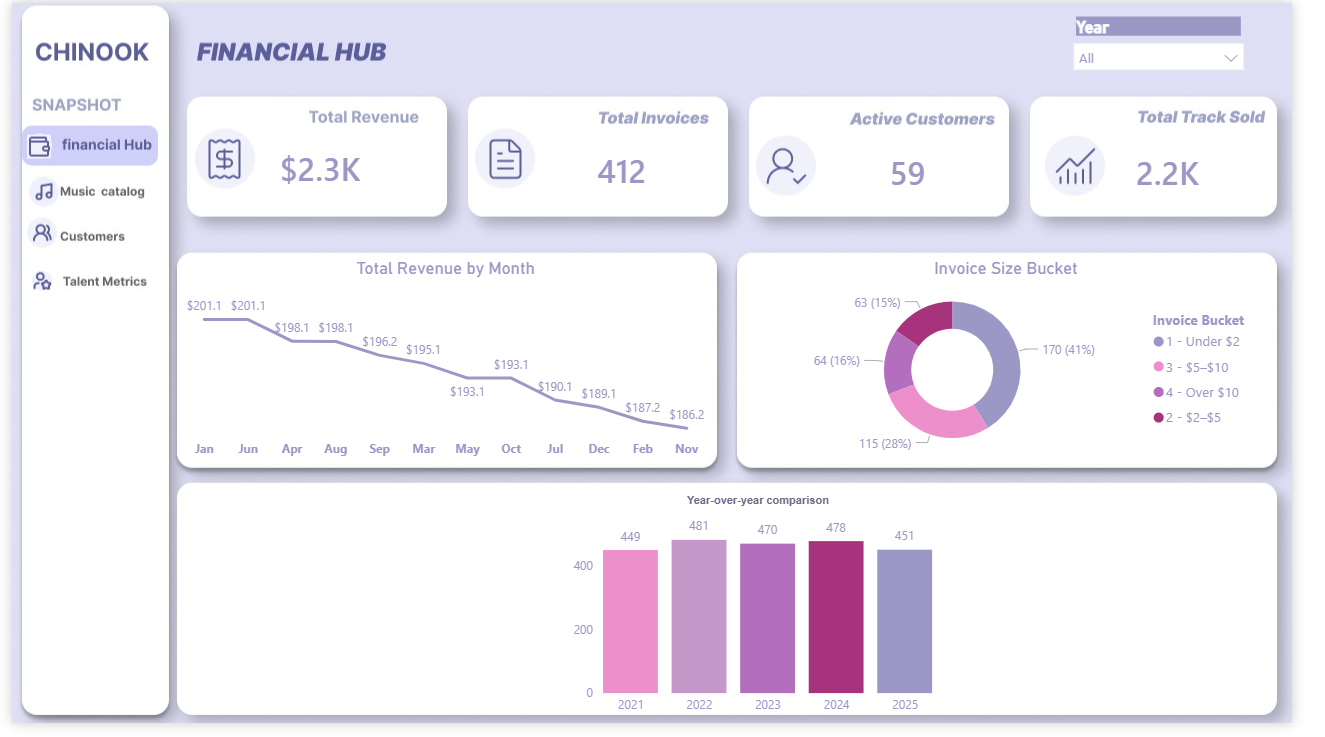

This screenshot's page, from the dashboard's own definition file:
{"tool":"powerbi","page":{"name":"Page 1","canvas":[1280,720],"ordinal":0},"visuals":[{"type":"cardVisual","fields":{"Data":["DAX.Total Customer"]},"box":[848.8,128.6,117.9,77.4],"z":0},{"type":"cardVisual","fields":{"Data":["DAX.Total Revenue"]},"box":[239.3,125,194,77.4],"z":1000},{"type":"cardVisual","fields":{"Data":["DAX.Total Invoices"]},"box":[556,131,114.3,69],"z":2000},{"type":"cardVisual","fields":{"Data":["DAX.Total Tracks Sold"]},"box":[1095.2,131,170.2,73.8],"z":3000},{"type":"columnChart","title":"Annual Revenue ","fields":{"Category":["invoice.Year"],"Y":["DAX.Annual Revenue"]},"box":[556,501.2,369,219],"z":5000},{"type":"textbox","box":[669.6,463.6,228.1,51.5],"z":6000},{"type":"donutChart","title":" Invoice Size Bucket","fields":{"Category":["invoice.Invoice Bucket"],"Y":["CountNonNull(invoice.InvoiceId)"]},"box":[734.5,254.8,517.9,204.8],"z":7000},{"type":"lineChart","title":"Total Revenue by Month ","fields":{"Y":["DAX.Total Revenue"],"Category":["invoice.Month Short"]},"box":[170.2,254.8,527.4,209.5],"z":11000},{"type":"slicer","fields":{"Values":["invoice.Year"]},"box":[1051.2,8.3,190.5,73.8],"z":12000}]}

Visuals, with their boxes in screenshot pixels (x1, y1, x2, y2), scaled from the page's 1280x720 canvas onto the 1325x737 screenshot:
cardVisual - DAX.Total Customer: x1=879 y1=132 x2=1001 y2=211
cardVisual - DAX.Total Revenue: x1=248 y1=128 x2=449 y2=207
cardVisual - DAX.Total Invoices: x1=576 y1=134 x2=694 y2=205
cardVisual - DAX.Total Tracks Sold: x1=1134 y1=134 x2=1310 y2=210
"Annual Revenue " columnChart: x1=576 y1=513 x2=958 y2=736
textbox: x1=693 y1=475 x2=929 y2=527
" Invoice Size Bucket" donutChart: x1=760 y1=261 x2=1296 y2=470
"Total Revenue by Month " lineChart: x1=176 y1=261 x2=722 y2=475
slicer - invoice.Year: x1=1088 y1=8 x2=1285 y2=84
